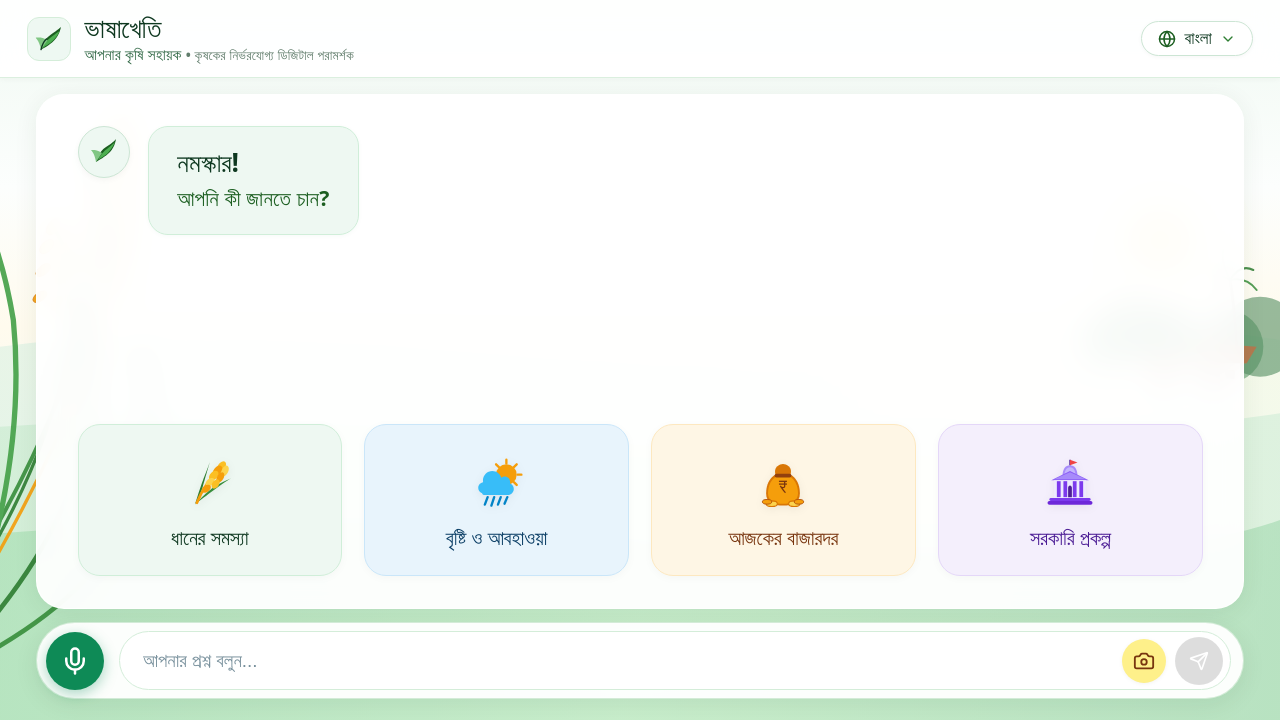
Test: App & Multi-Model Views Smoke Tests › renders supervisor multimodal home screen by default with welcome greeting and 4 visual suggestion cards
expect the heading "নমস্কার!" is shown: met, box [177, 144, 239, 180]
expect the text "আপনি কী জানতে চান?" is shown: met, box [177, 182, 330, 214]
Click the button "ধানের সমস্যা". click: (210, 500)
box: [78, 424, 342, 576]
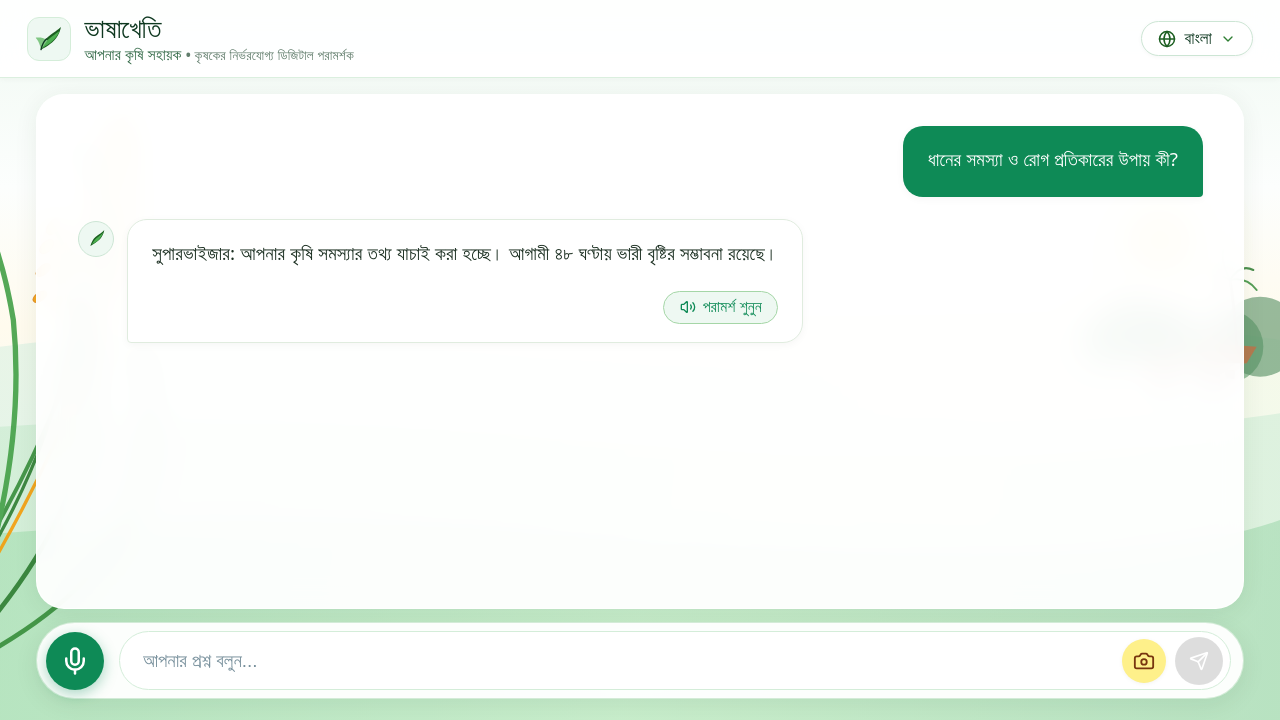
expect the text "সুপারভাইজার: আপনার কৃষি সমস্যার তথ্য যাচাই করা হচ্ছে" is shown: met, box [152, 240, 778, 266]
